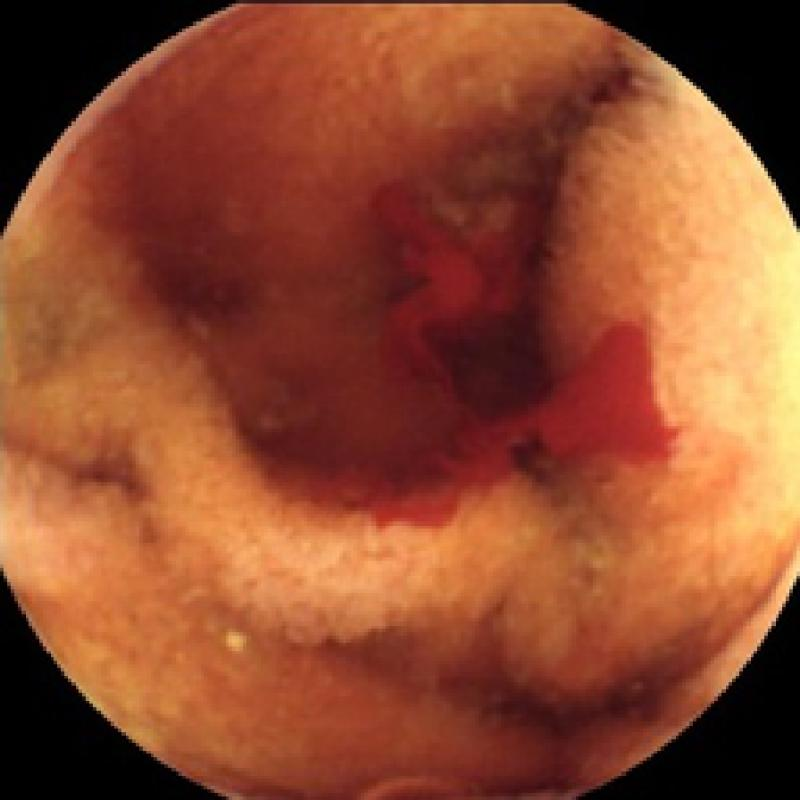bleeding: (339, 211, 640, 507)
